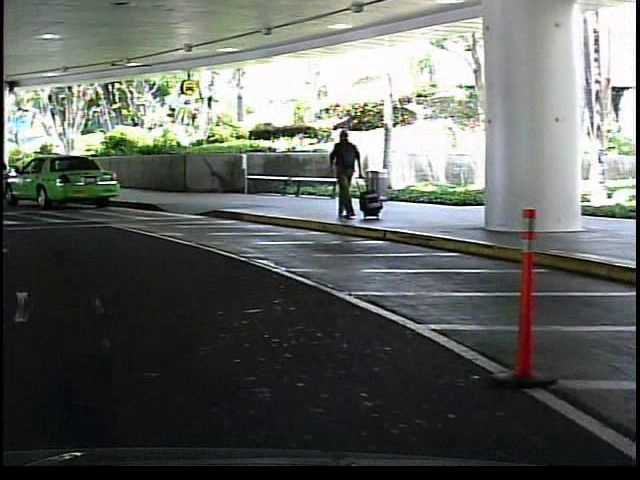person: (321, 121, 364, 228)
